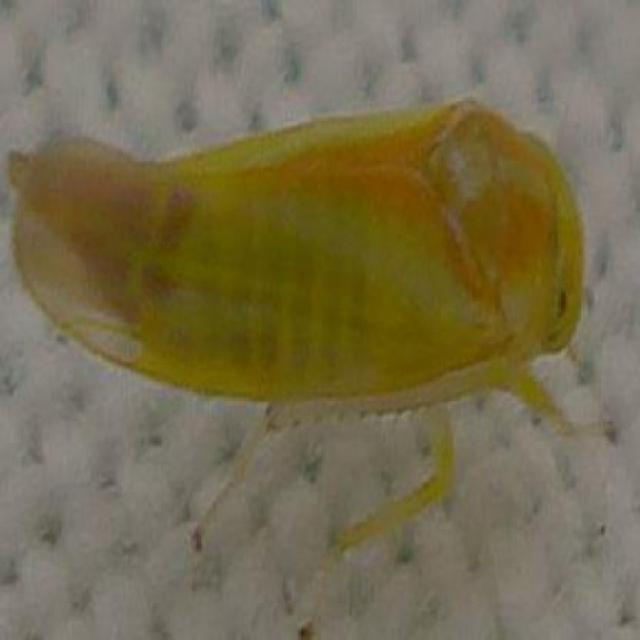green-leafhopper: (14, 108, 592, 434)
